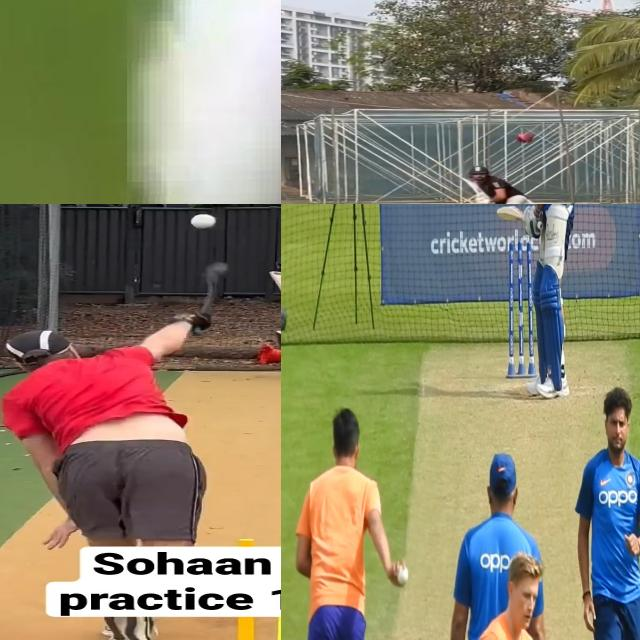Cricket ball: (127, 0, 281, 204), (395, 561, 411, 591), (190, 213, 218, 230), (515, 132, 534, 144)
Stumps: (504, 239, 536, 379)
